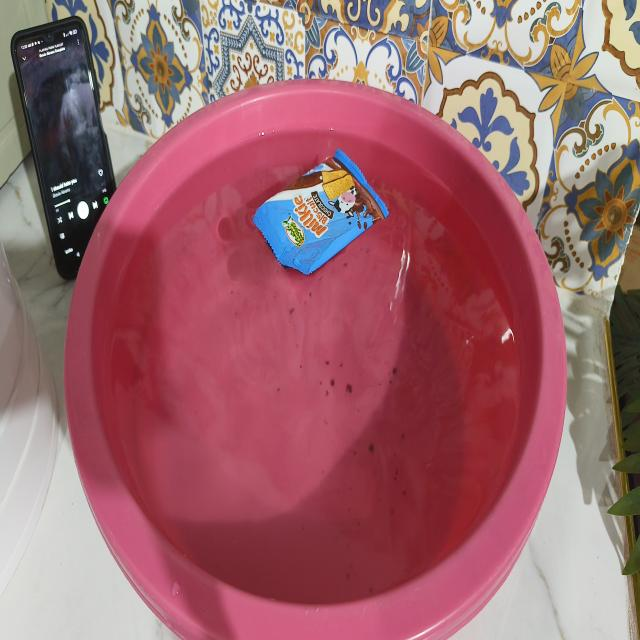Plastic Wrapper: (253, 149, 389, 274)
